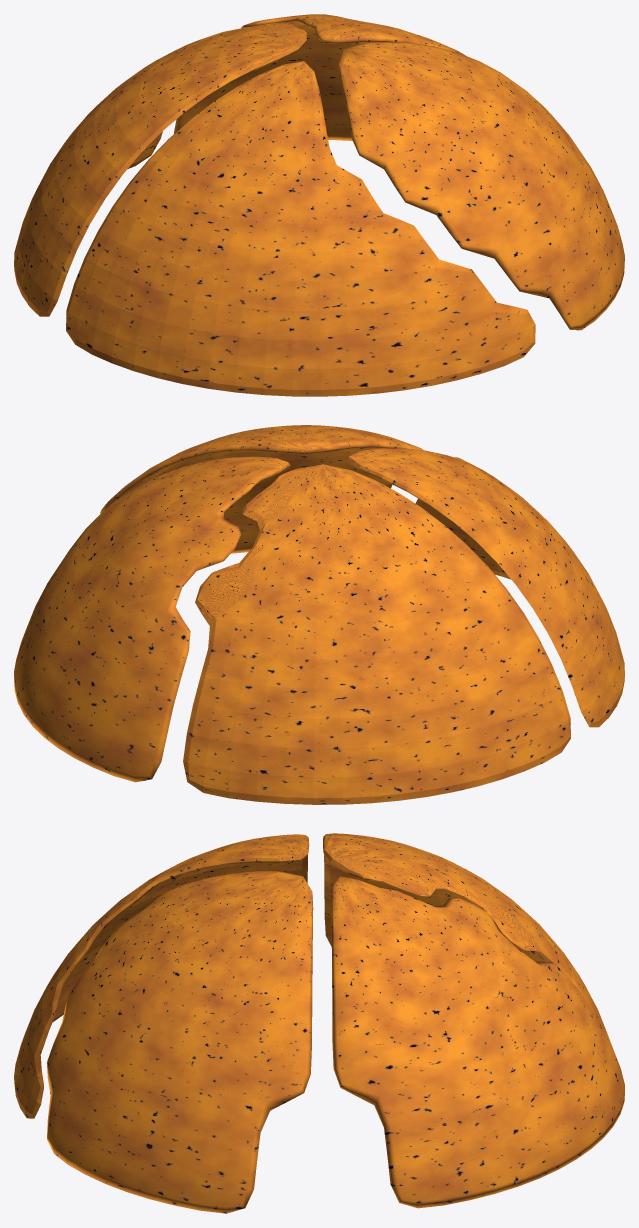
Rendered from Casa.fbx.
The picture shows the model from 3 angles, top to bottom: view 1: azimuth 30°, elevation 25°; view 2: azimuth 150°, elevation 25°; view 3: azimuth 270°, elevation 25°; orthographic projection.
Parts seen in each view (by area): view 1: Sphere.005; view 2: Sphere.005; view 3: Sphere.005.
Part boxes in pixels (x1,y1,x2,y2): Sphere.005: (14,14,624,396); Sphere.005: (14,425,624,804); Sphere.005: (14,833,624,1213).
Size of the model in its own units: 1614 by 657 by 1626.
1 material, 1 textured.
